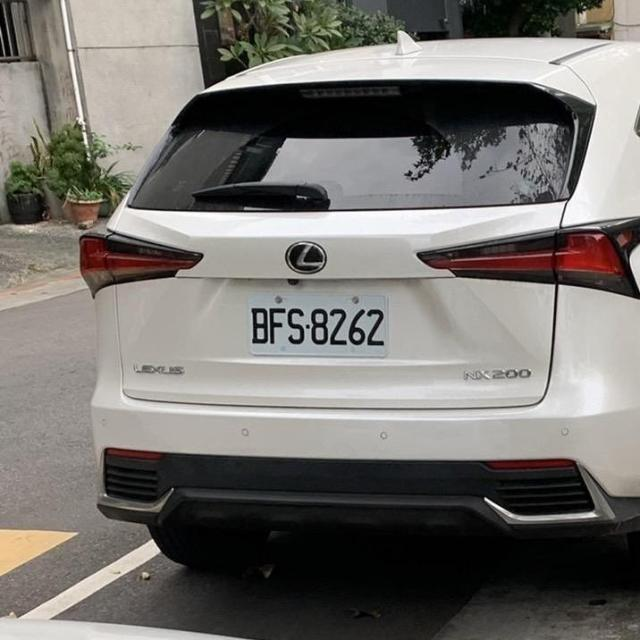W: (240, 273, 395, 371)
